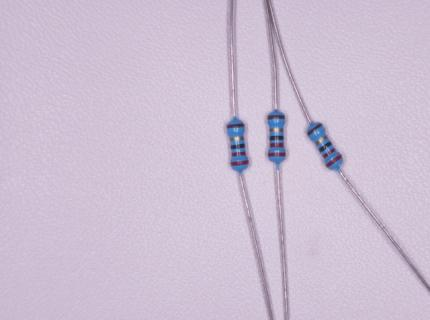Black band: (318, 141, 333, 153), (270, 135, 284, 141), (230, 144, 245, 149)
Brown band: (307, 123, 323, 136), (226, 123, 245, 129), (268, 115, 285, 120)
Gold band: (315, 135, 329, 146), (230, 136, 245, 142), (269, 128, 284, 133)
Red band: (325, 154, 343, 168), (323, 148, 336, 159), (230, 160, 249, 166), (269, 143, 284, 148), (268, 153, 286, 157), (232, 152, 245, 156)
